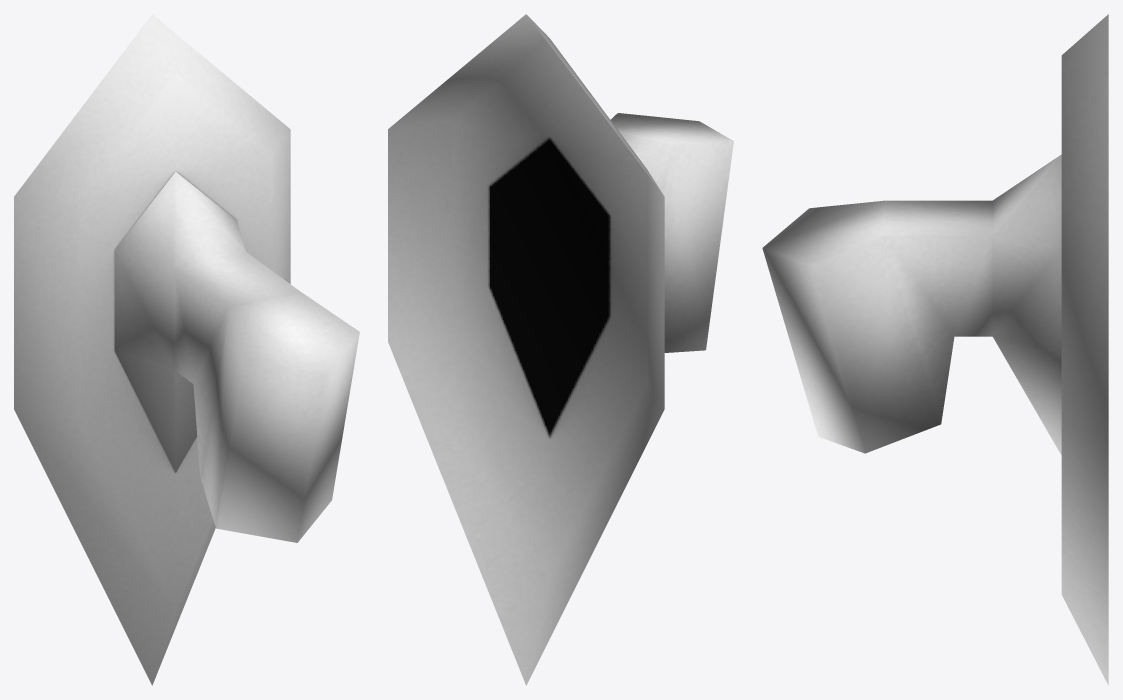
File: torchHolder.FBX
3 renders of one model, left to right at view 1: azimuth 30°, elevation 25°; view 2: azimuth 150°, elevation 25°; view 3: azimuth 270°, elevation 25°, orthographic.
Parts seen in each view (by area): view 1: torchHolder; view 2: torchHolder; view 3: torchHolder.
Boxes of the visible parts, x1,y1,x2,y2 form: torchHolder: (14, 14, 359, 685); torchHolder: (388, 14, 733, 685); torchHolder: (762, 14, 1108, 685).
Size of the model in its own units: 34 by 78.96 by 36.88.
